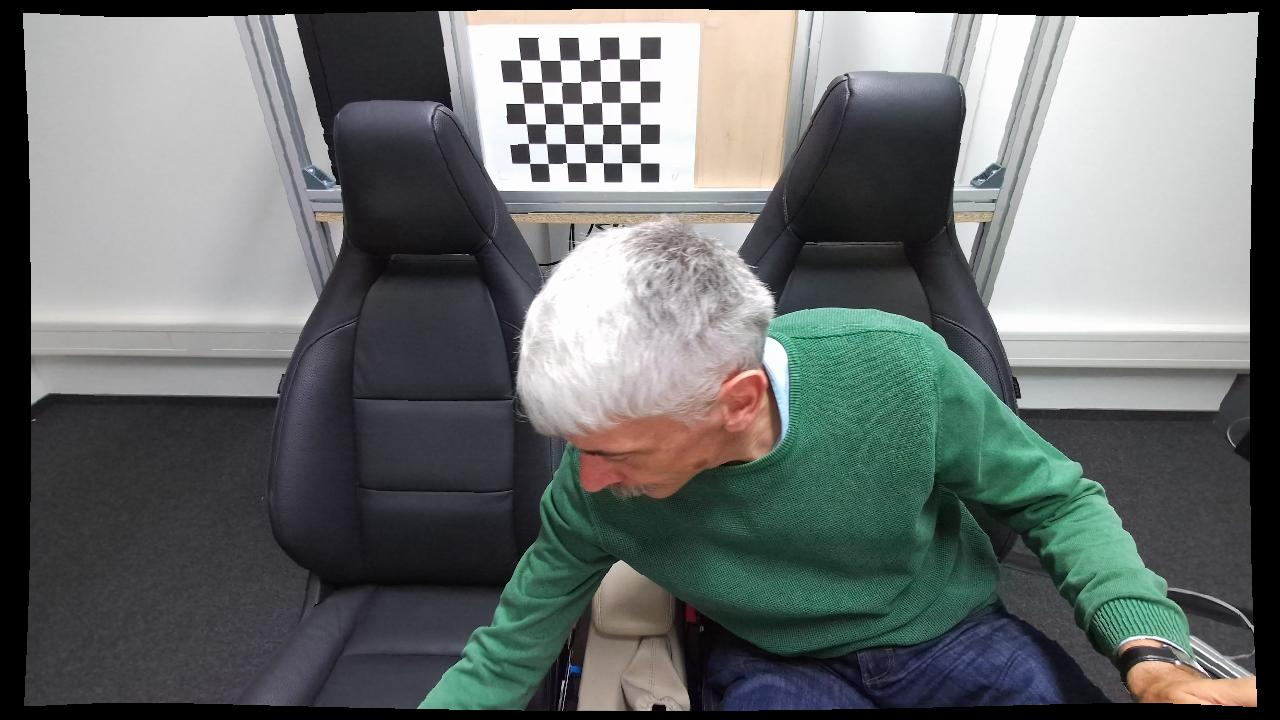Distracted: (413, 216, 1213, 707)
